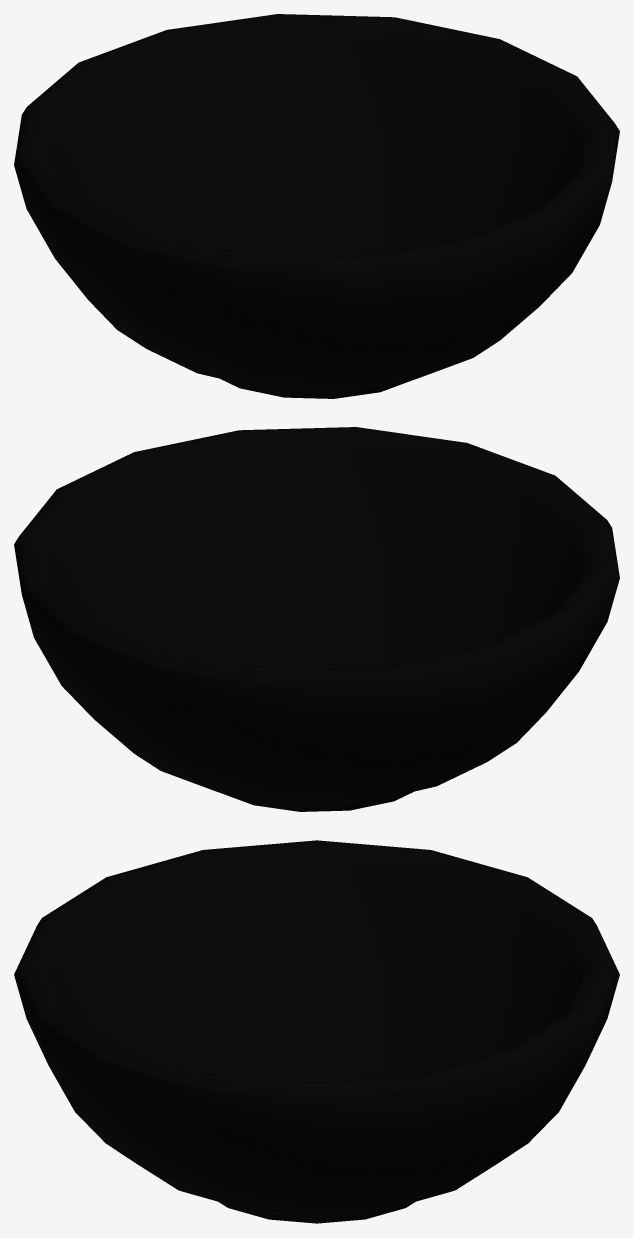
Rendered from ASFTR_Bowl_Empty (1).fbx.
3 views of the same model, one above another, from view 1: azimuth 30°, elevation 25°; view 2: azimuth 150°, elevation 25°; view 3: azimuth 270°, elevation 25° (orthographic).
Visible parts, largest first — view 1: ASFTR_Bowl_Empty; view 2: ASFTR_Bowl_Empty; view 3: ASFTR_Bowl_Empty.
Boxes of the visible parts, box(x1,y1,x2,y2) form: ASFTR_Bowl_Empty: box(14, 14, 619, 398); ASFTR_Bowl_Empty: box(14, 427, 619, 811); ASFTR_Bowl_Empty: box(14, 840, 619, 1223).
Size of the model in its own units: 60.78 by 22.92 by 60.78.
